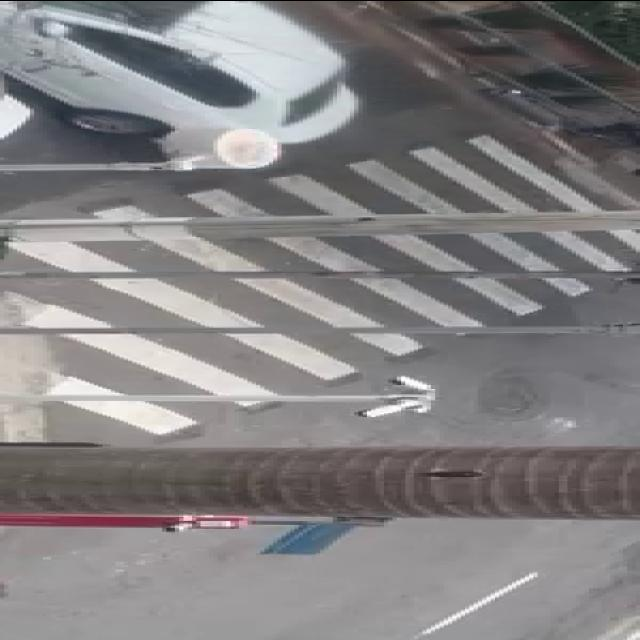car: (0, 4, 408, 156)
